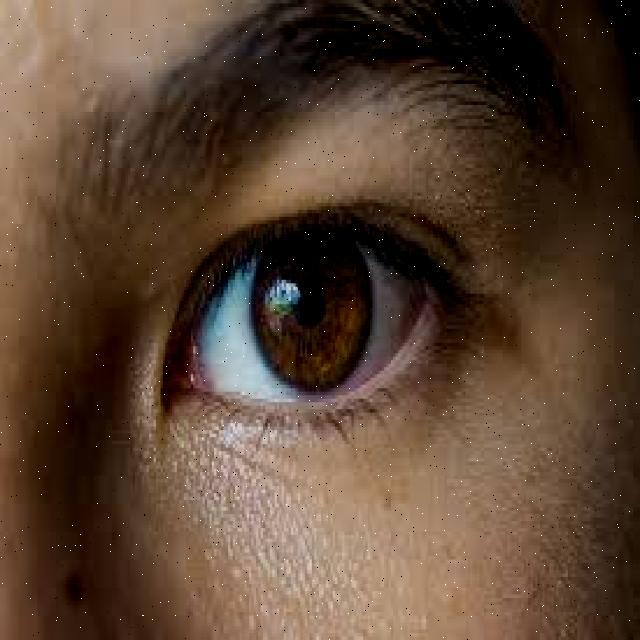Normal: (65, 85, 592, 570)
